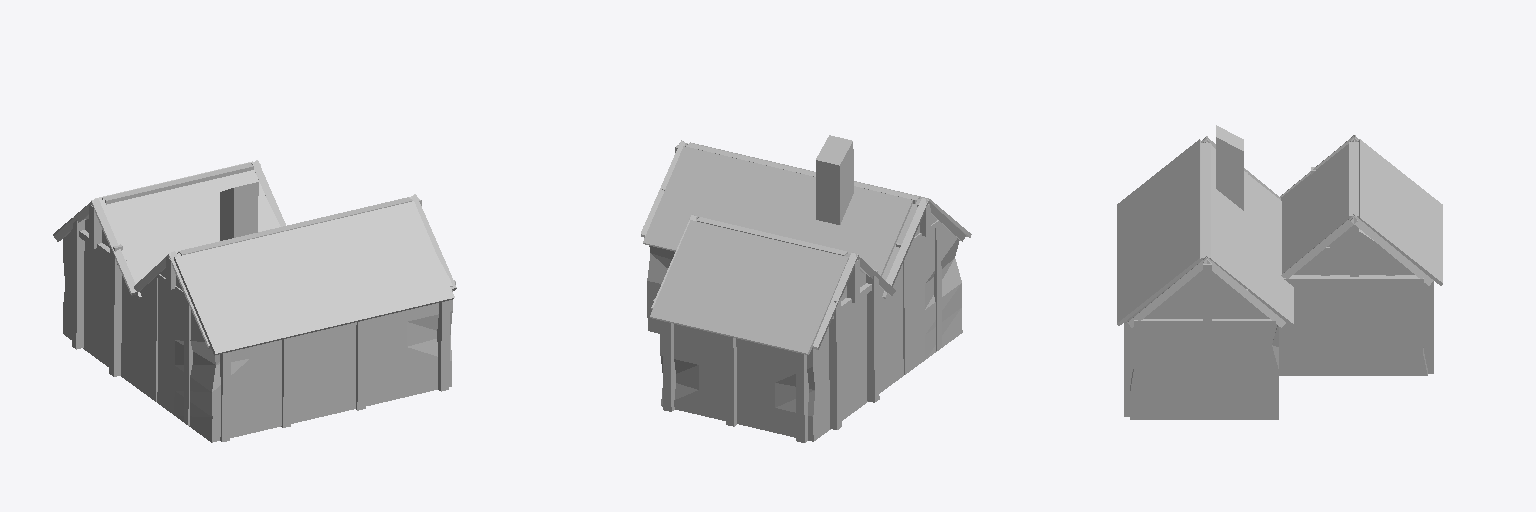
Rendered from house.obj.
3 views of the same model, side by side, from view 1: azimuth 30°, elevation 25°; view 2: azimuth 150°, elevation 25°; view 3: azimuth 270°, elevation 25° (orthographic).
Visible parts, largest first — view 1: poutre_5_1_Mesh.002; view 2: poutre_5_1_Mesh.002; view 3: poutre_5_1_Mesh.002.
Part boxes in pixels (left/top/right/bottom): poutre_5_1_Mesh.002: left=53, top=160, right=456, bottom=442; poutre_5_1_Mesh.002: left=641, top=135, right=971, bottom=442; poutre_5_1_Mesh.002: left=1117, top=125, right=1442, bottom=419.
Size of the model in its own units: 0.2933 by 0.2311 by 0.3261.